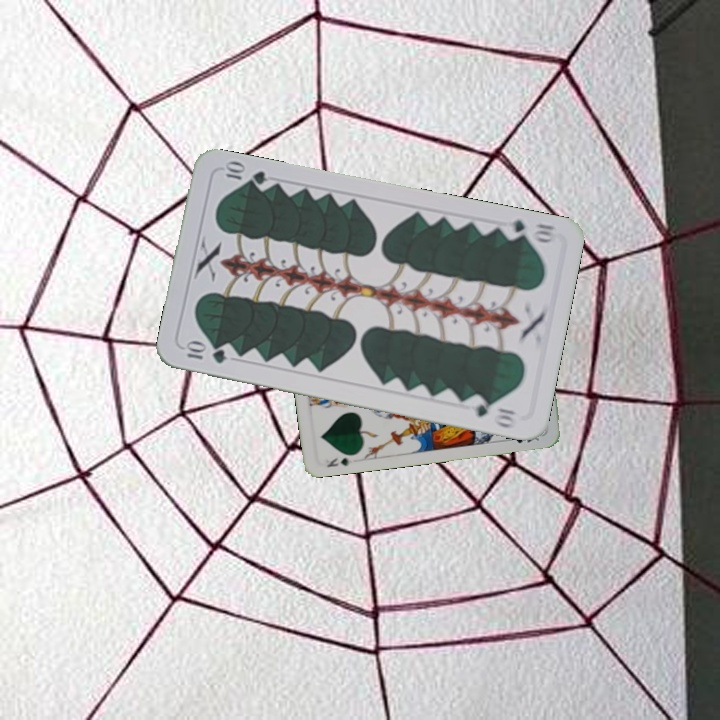G10: (499, 215, 559, 246), (182, 339, 229, 366)
GK: (323, 454, 354, 470)
